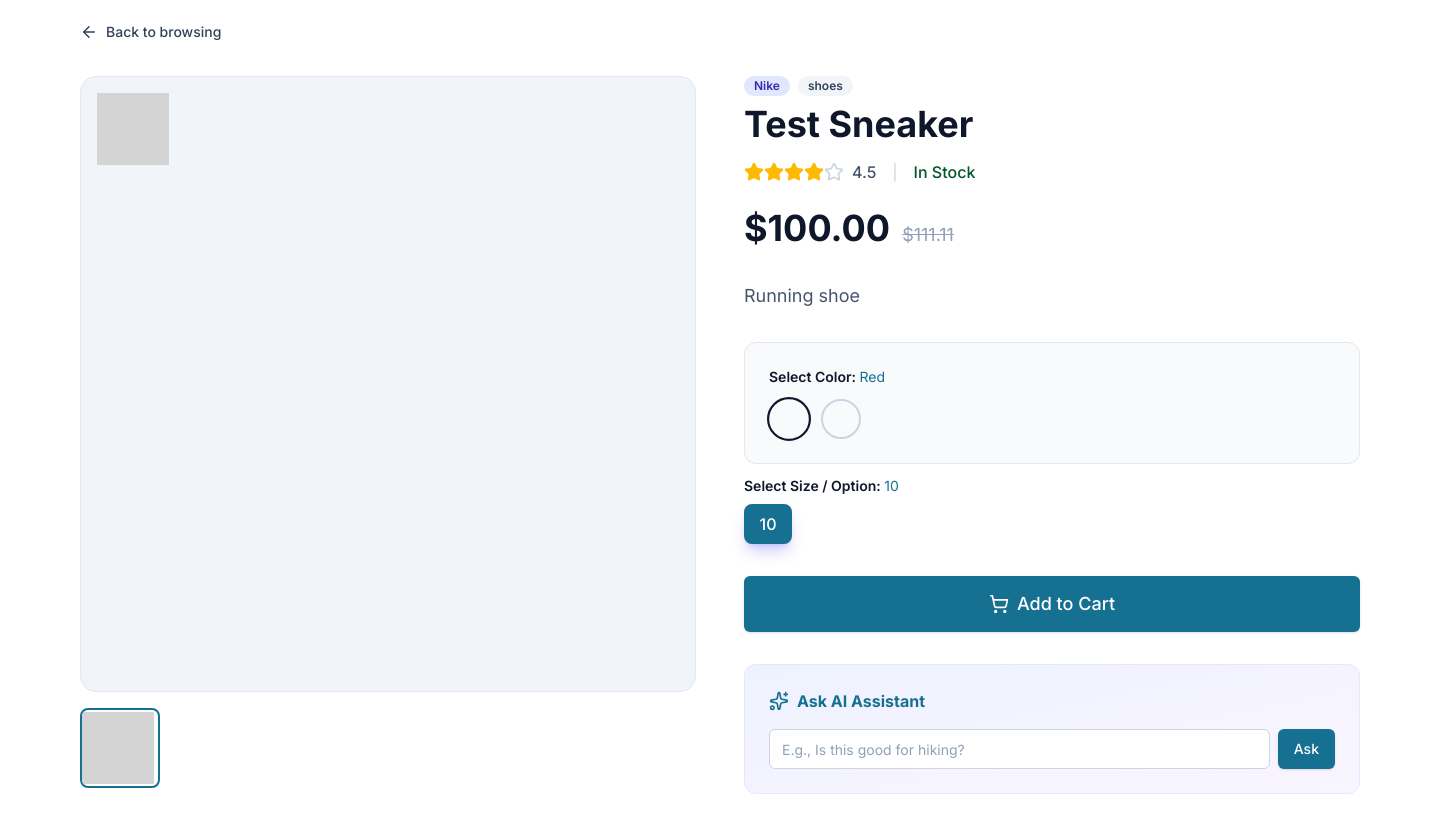
Test case: ProductDetailFlow Integration Tests › allows variant selection and adds to cart
This screenshot has width=1440, height=822.
Click the button titled "Blue" at (841, 419), box [821,399,861,439]
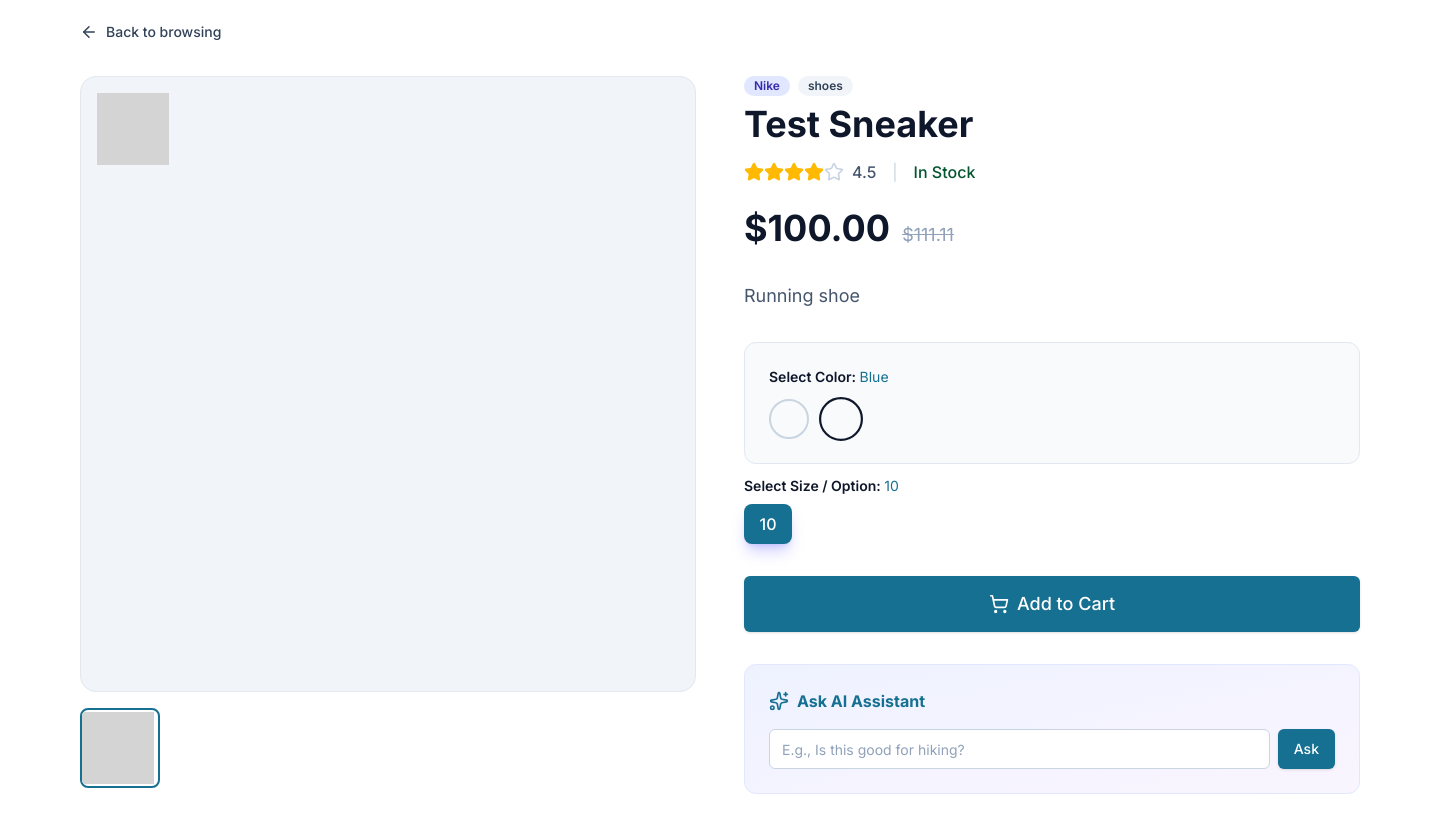
Note: Click Add to Cart
Click the button "Add to Cart" at (1052, 604), box [744,576,1360,632]
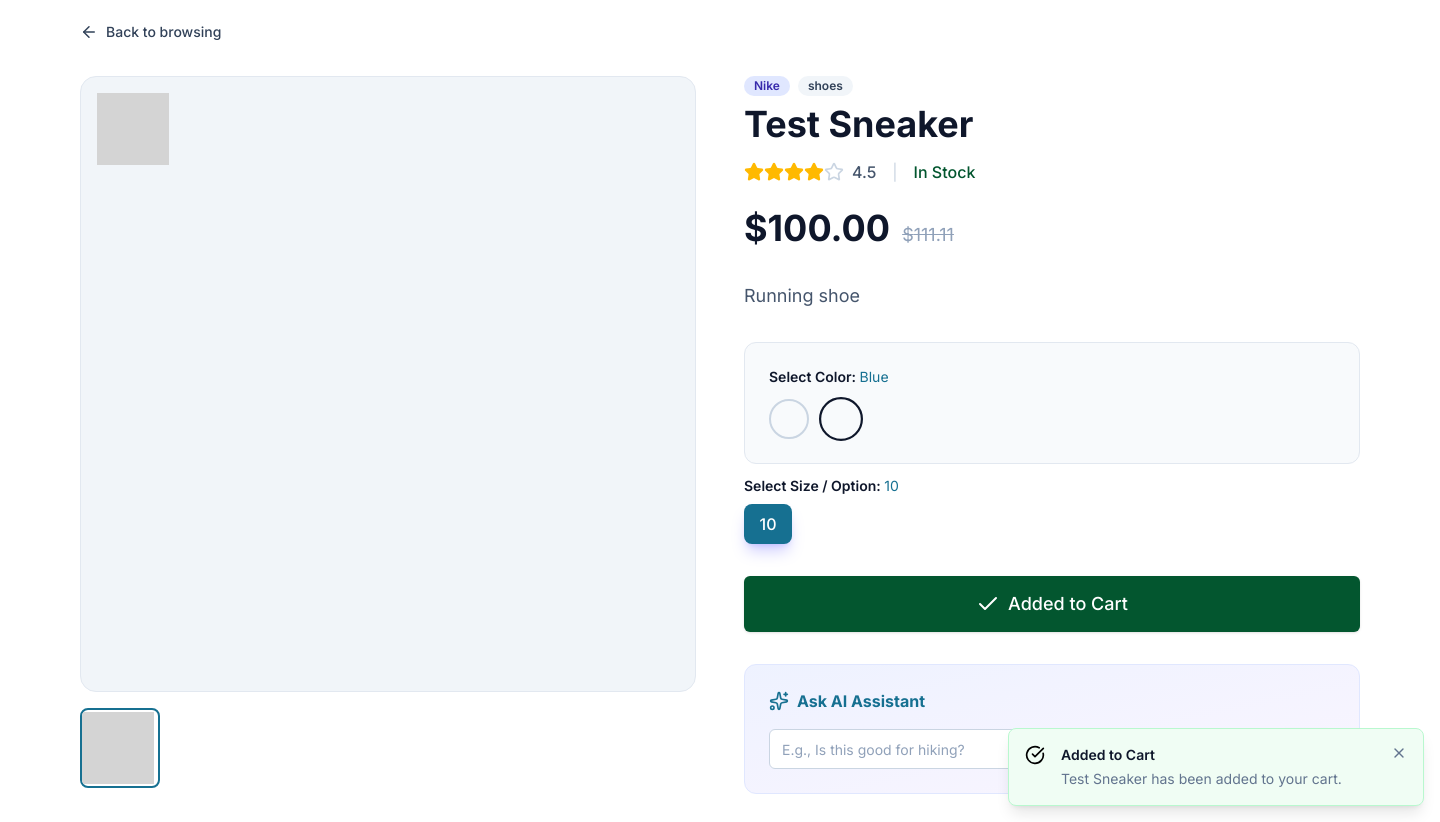
Expected: the text "Blue" is shown, [860,368,888,385]
Expected: the message shows "Added to Cart", [1061,746,1155,763]
